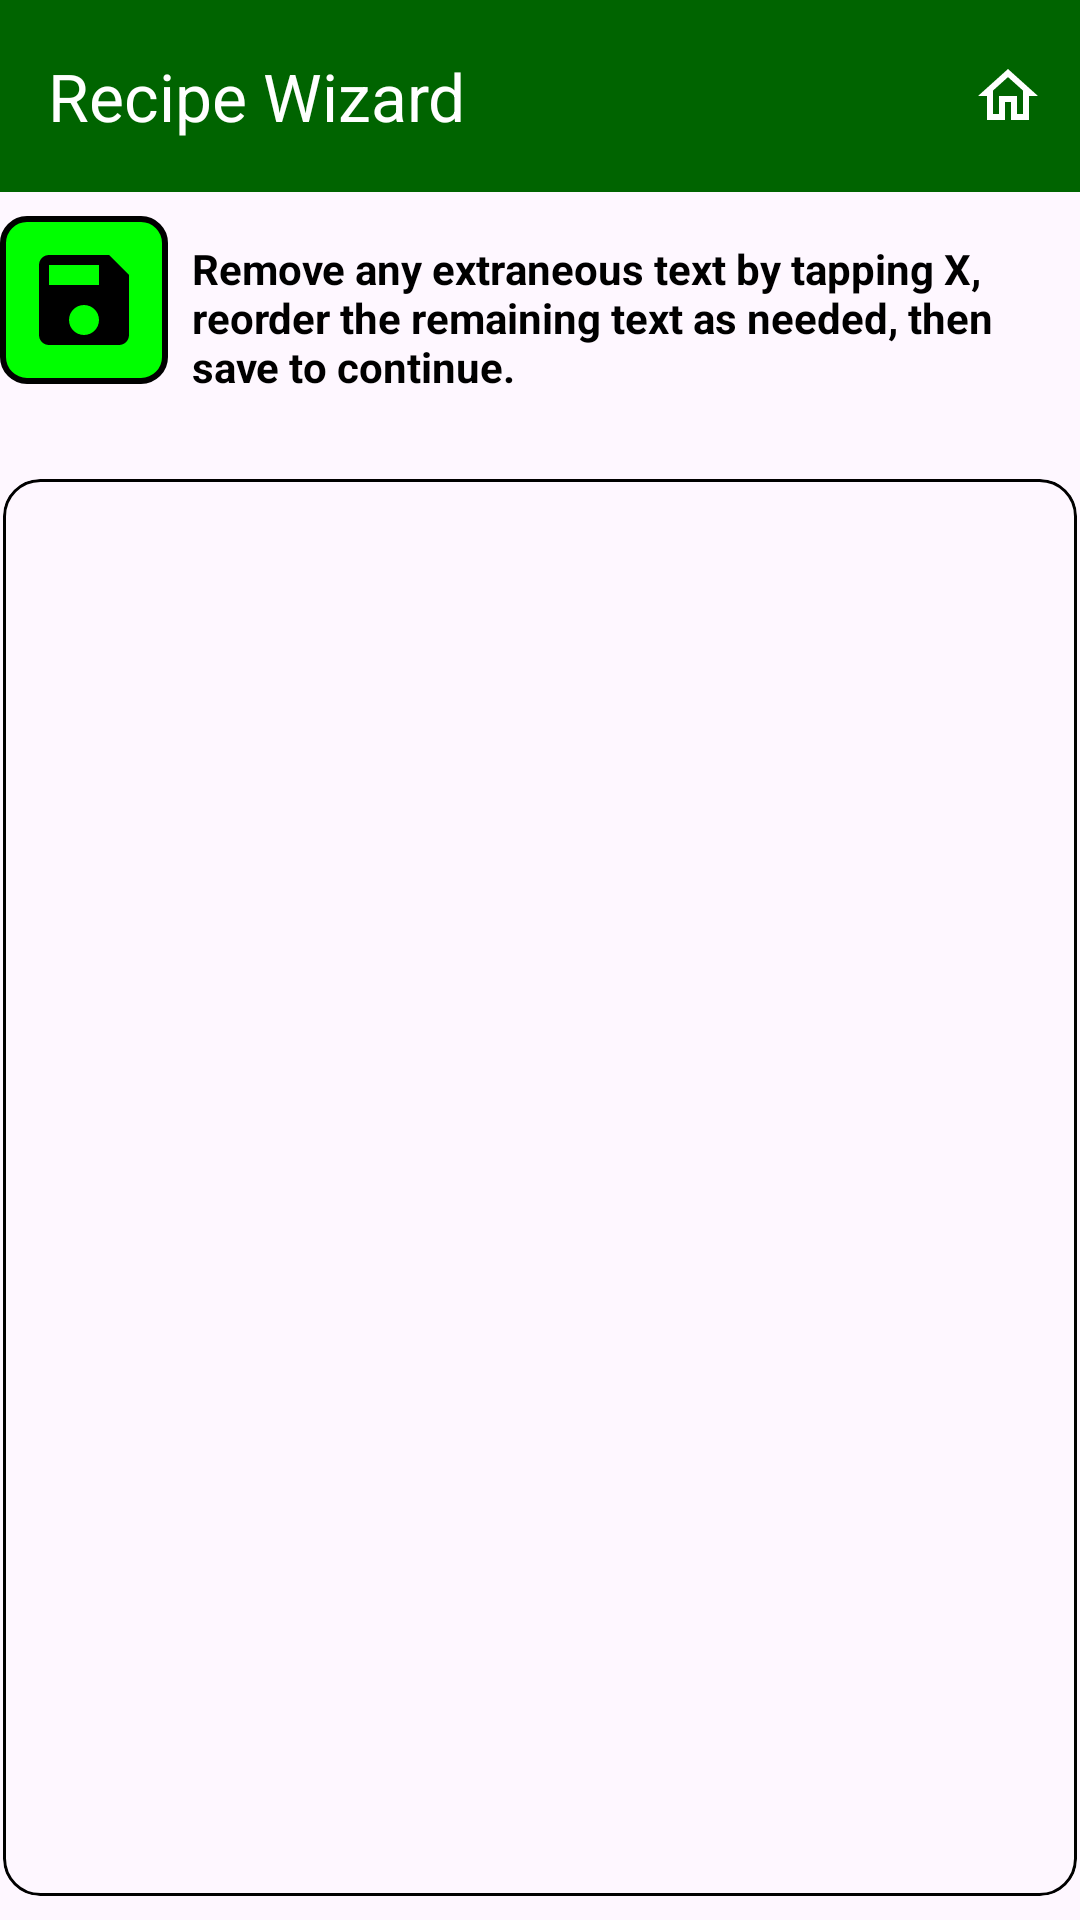

Where icons sit on this 1080px x 1920px app screen, as [x1=x1, y1=y1, x2=x2, y2=y2]:
Save edited text: [x1=0, y1=216, x2=168, y2=384]
